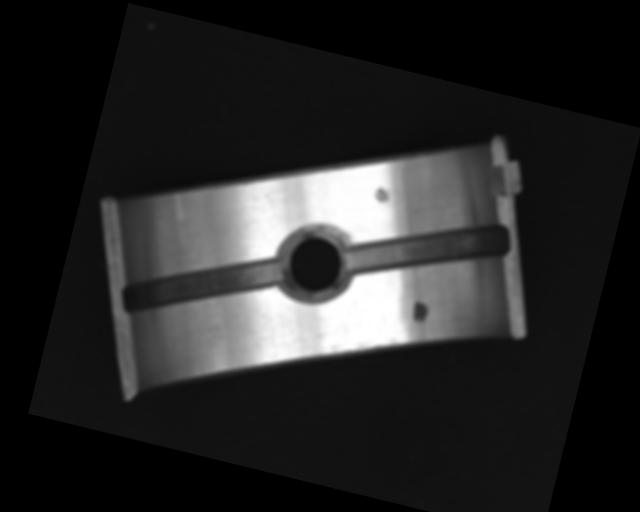blot: (409, 299, 431, 325)
bruise: (372, 184, 393, 205)
gap: (118, 225, 289, 345), (342, 190, 513, 309)
hole: (276, 219, 356, 304)
